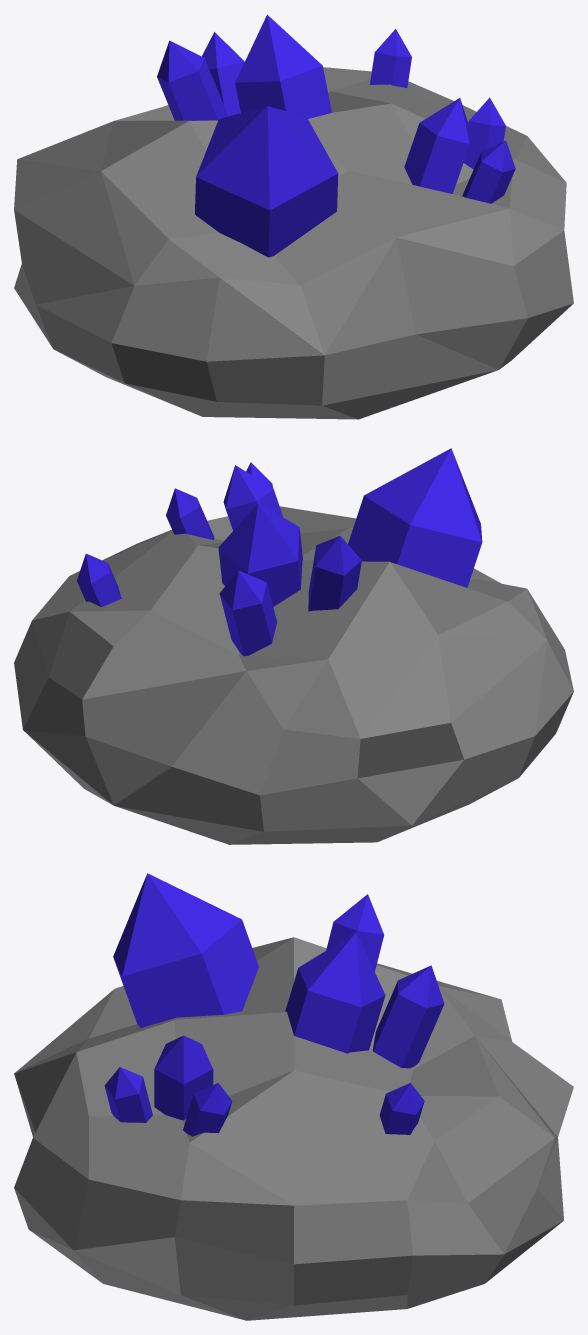
The model's file is Caillasse2.fbx.
3 views of the same model, one above another, from view 1: azimuth 30°, elevation 25°; view 2: azimuth 150°, elevation 25°; view 3: azimuth 270°, elevation 25° (orthographic). The views are drawn at different scales.
Visible parts, largest first — view 1: Cube, Cylinder.005, Cylinder.003, Cylinder.007, Cylinder.002, Cylinder.006, Cylinder.001, Cylinder.008, Cylinder.004; view 2: Cube, Cylinder.005, Cylinder.003, Cylinder.001, Cylinder.002, Cylinder.007, Cylinder.008, Cylinder.004; view 3: Cube, Cylinder.005, Cylinder.003, Cylinder.001, Cylinder.007, Cylinder.002, Cylinder.006, Cylinder.004, Cylinder.008.
Part boxes in pixels (box(x1,y1,x2,y2)): Cube: box(14, 67, 573, 419); Cylinder.005: box(195, 106, 338, 257); Cylinder.003: box(235, 14, 331, 118); Cylinder.007: box(404, 98, 472, 193); Cylinder.002: box(157, 40, 228, 120); Cylinder.006: box(462, 140, 515, 203); Cylinder.001: box(202, 32, 244, 116); Cylinder.008: box(370, 29, 411, 87); Cylinder.004: box(463, 97, 505, 169); Cube: box(14, 506, 573, 844); Cylinder.005: box(348, 448, 482, 587); Cylinder.003: box(218, 503, 303, 606); Cylinder.001: box(219, 570, 276, 656); Cylinder.002: box(308, 536, 361, 611); Cylinder.007: box(223, 465, 283, 530); Cylinder.008: box(77, 553, 121, 607); Cylinder.004: box(166, 488, 214, 540); Cube: box(14, 937, 573, 1320); Cylinder.005: box(113, 873, 258, 1027); Cylinder.003: box(285, 932, 385, 1053); Cylinder.001: box(372, 965, 444, 1068); Cylinder.007: box(154, 1035, 213, 1120); Cylinder.002: box(326, 894, 384, 971); Cylinder.006: box(104, 1067, 152, 1122); Cylinder.004: box(183, 1083, 232, 1136); Cylinder.008: box(379, 1083, 424, 1134).
Bounding box in the file's own units: 2176 × 1371 × 2027.
